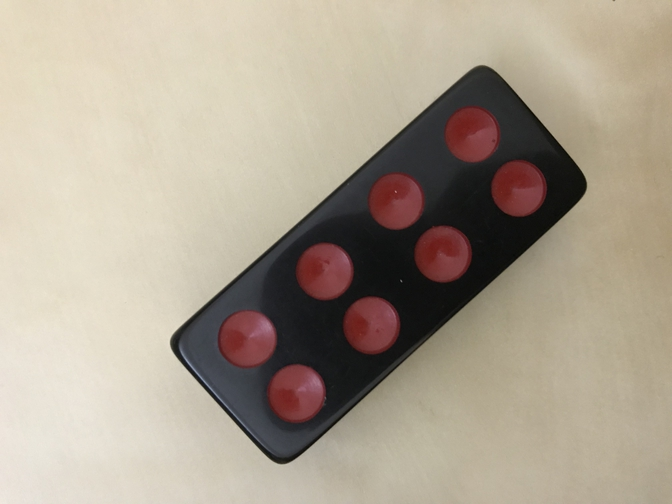man: (170, 64, 586, 465)
